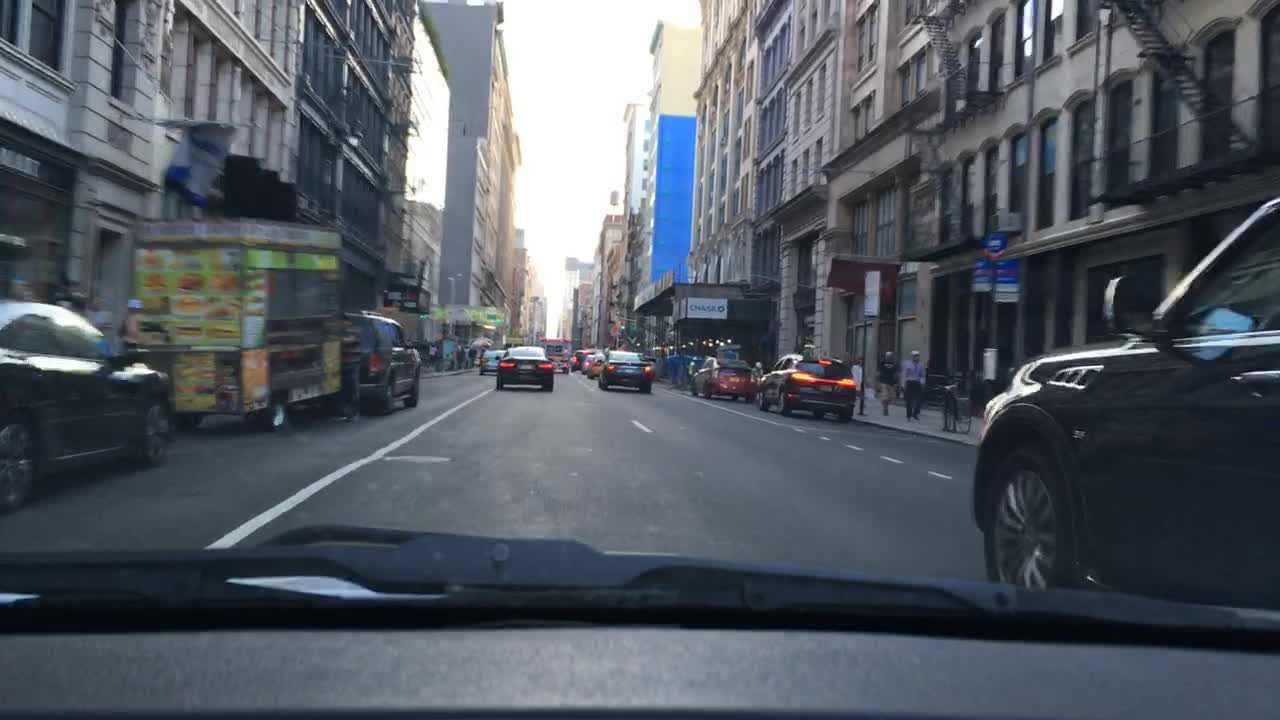car: (969, 198, 1278, 611), (0, 298, 175, 516), (345, 311, 421, 414), (756, 353, 855, 421), (693, 355, 756, 401), (494, 345, 555, 390), (596, 350, 651, 391), (476, 348, 507, 373), (568, 350, 590, 371), (587, 354, 602, 380)
person: (343, 316, 363, 421), (899, 348, 927, 420), (874, 349, 895, 413)
traffic light: (620, 320, 625, 331)
traffic sign: (972, 260, 1018, 308), (981, 229, 1005, 261)
truck: (131, 218, 343, 429), (536, 336, 571, 375)
